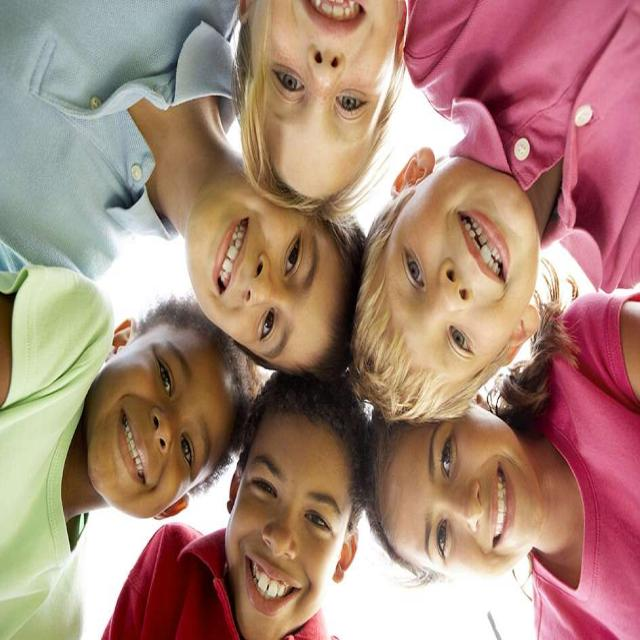child: (0, 0, 370, 375), (349, 0, 640, 423), (1, 253, 259, 640), (371, 286, 640, 640), (99, 370, 374, 640), (230, 0, 416, 214)
